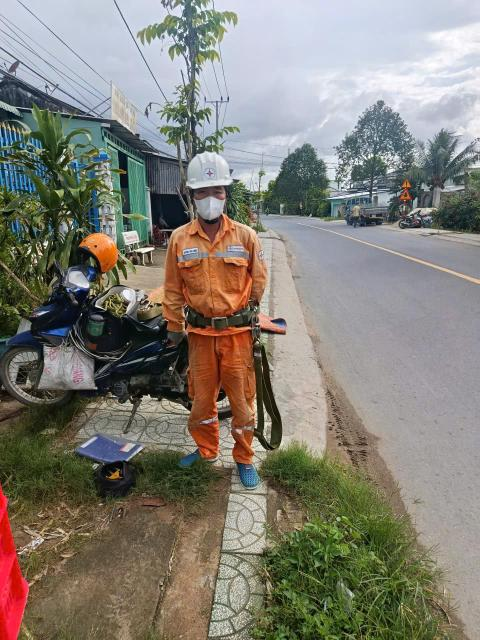gloves: (164, 322, 186, 344)
harness: (177, 294, 286, 334)
helmet: (185, 139, 236, 195)
shoes: (231, 448, 263, 496), (178, 441, 222, 473)
